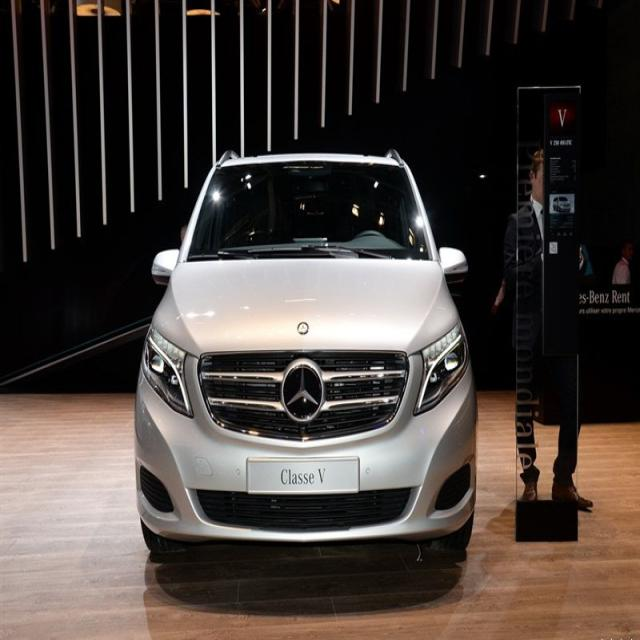front_bumper: (135, 382, 477, 542)
front_glass: (187, 164, 433, 262)
front_left_side_light: (412, 318, 470, 416)
front_left_side_mirror: (438, 246, 469, 278)
front_right_side_light: (140, 324, 194, 421)
front_right_side_mirror: (150, 248, 180, 284)
